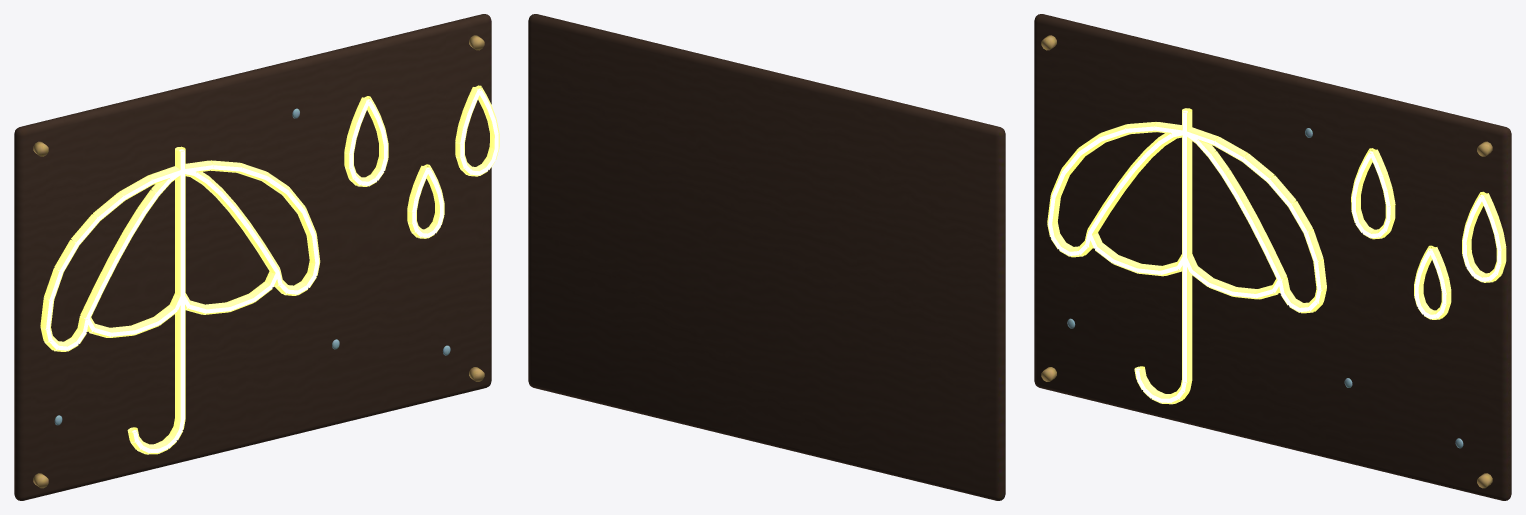
File: trumua-neon-emblem.glb
3 renders of one model, left to right at view 1: azimuth 30°, elevation 25°; view 2: azimuth 150°, elevation 25°; view 3: azimuth 330°, elevation 25°, orthographic.
Parts seen in each view (by area): view 1: trumua-neon-emblem; view 2: trumua-neon-emblem; view 3: trumua-neon-emblem.
Part boxes in pixels (x1=…): trumua-neon-emblem: x1=14, y1=14, x2=499, y2=500; trumua-neon-emblem: x1=528, y1=14, x2=1005, y2=500; trumua-neon-emblem: x1=1034, y1=14, x2=1511, y2=500.
Bounding box in the file's own units: 1.2 × 0.9 × 0.058.
3 materials, 1 textured.
